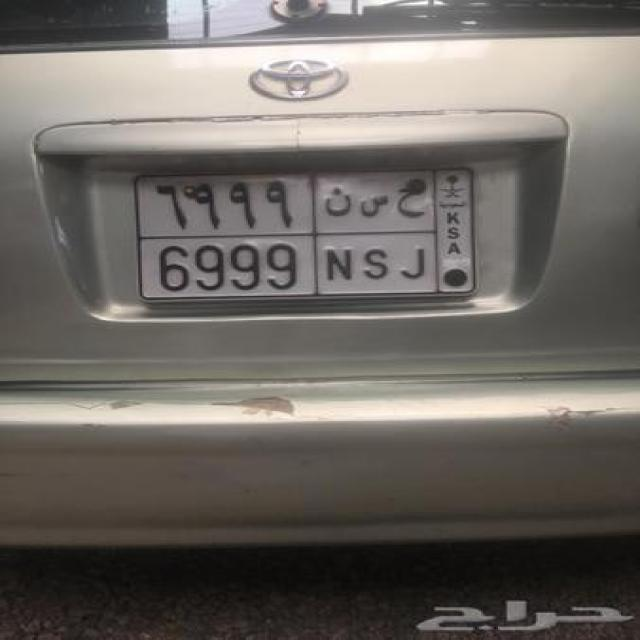license_plate: (131, 163, 481, 304)
